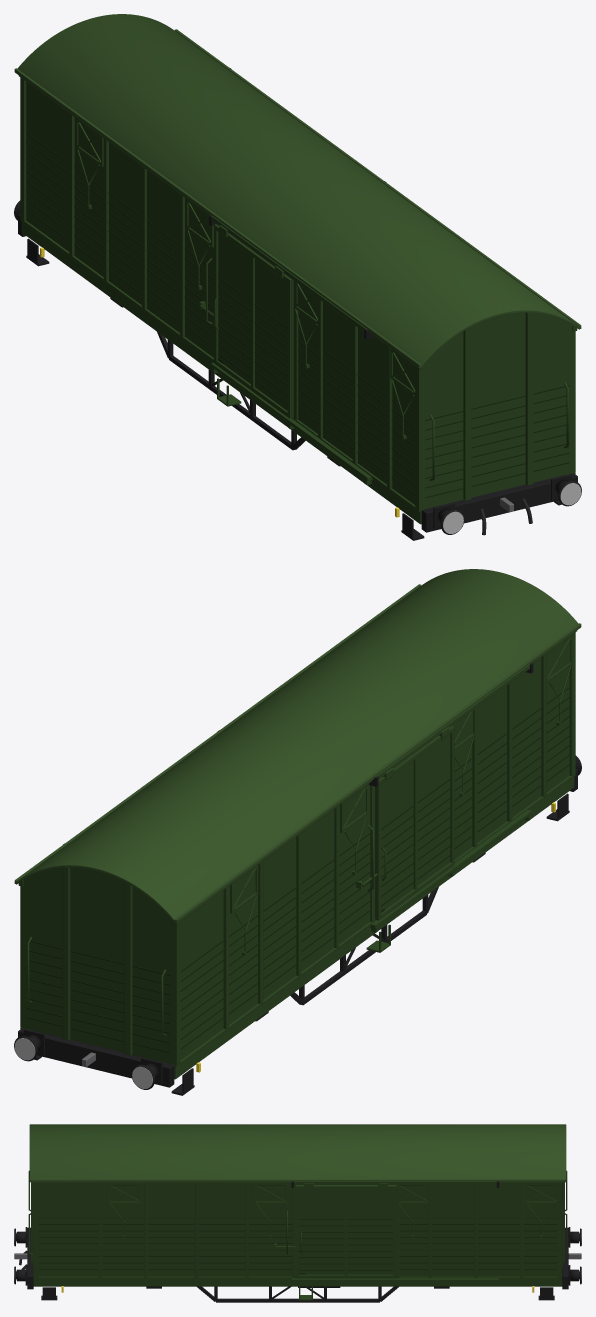
The model's file is 28334-Materialwagen_GLB.glb.
3 renders of one model, top to bottom at view 1: azimuth 30°, elevation 25°; view 2: azimuth 150°, elevation 25°; view 3: azimuth 270°, elevation 25°, orthographic. The views are drawn at different scales.
Parts seen in each view (by area): view 1: W_CentreSill, W_Door_L; view 2: W_CentreSill, W_Door_L; view 3: W_CentreSill, W_Door_R.
Part boxes in pixels (<box>): W_CentreSill: <box>14,14,581,540</box>; W_Door_L: <box>214,224,294,418</box>; W_CentreSill: <box>14,569,581,1095</box>; W_Door_L: <box>375,726,454,920</box>; W_CentreSill: <box>14,1124,581,1302</box>; W_Door_R: <box>296,1183,396,1278</box>.
Size of the model in its own units: 3.68 by 4.59 by 15.94.
